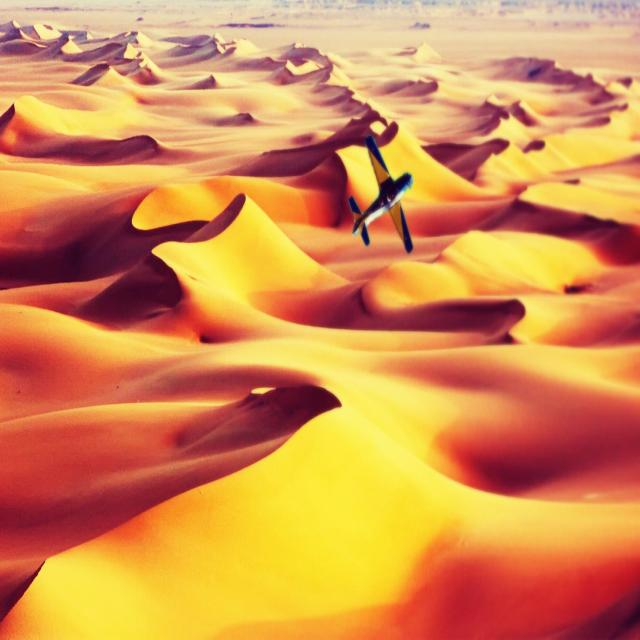airplane: (348, 132, 413, 254)
